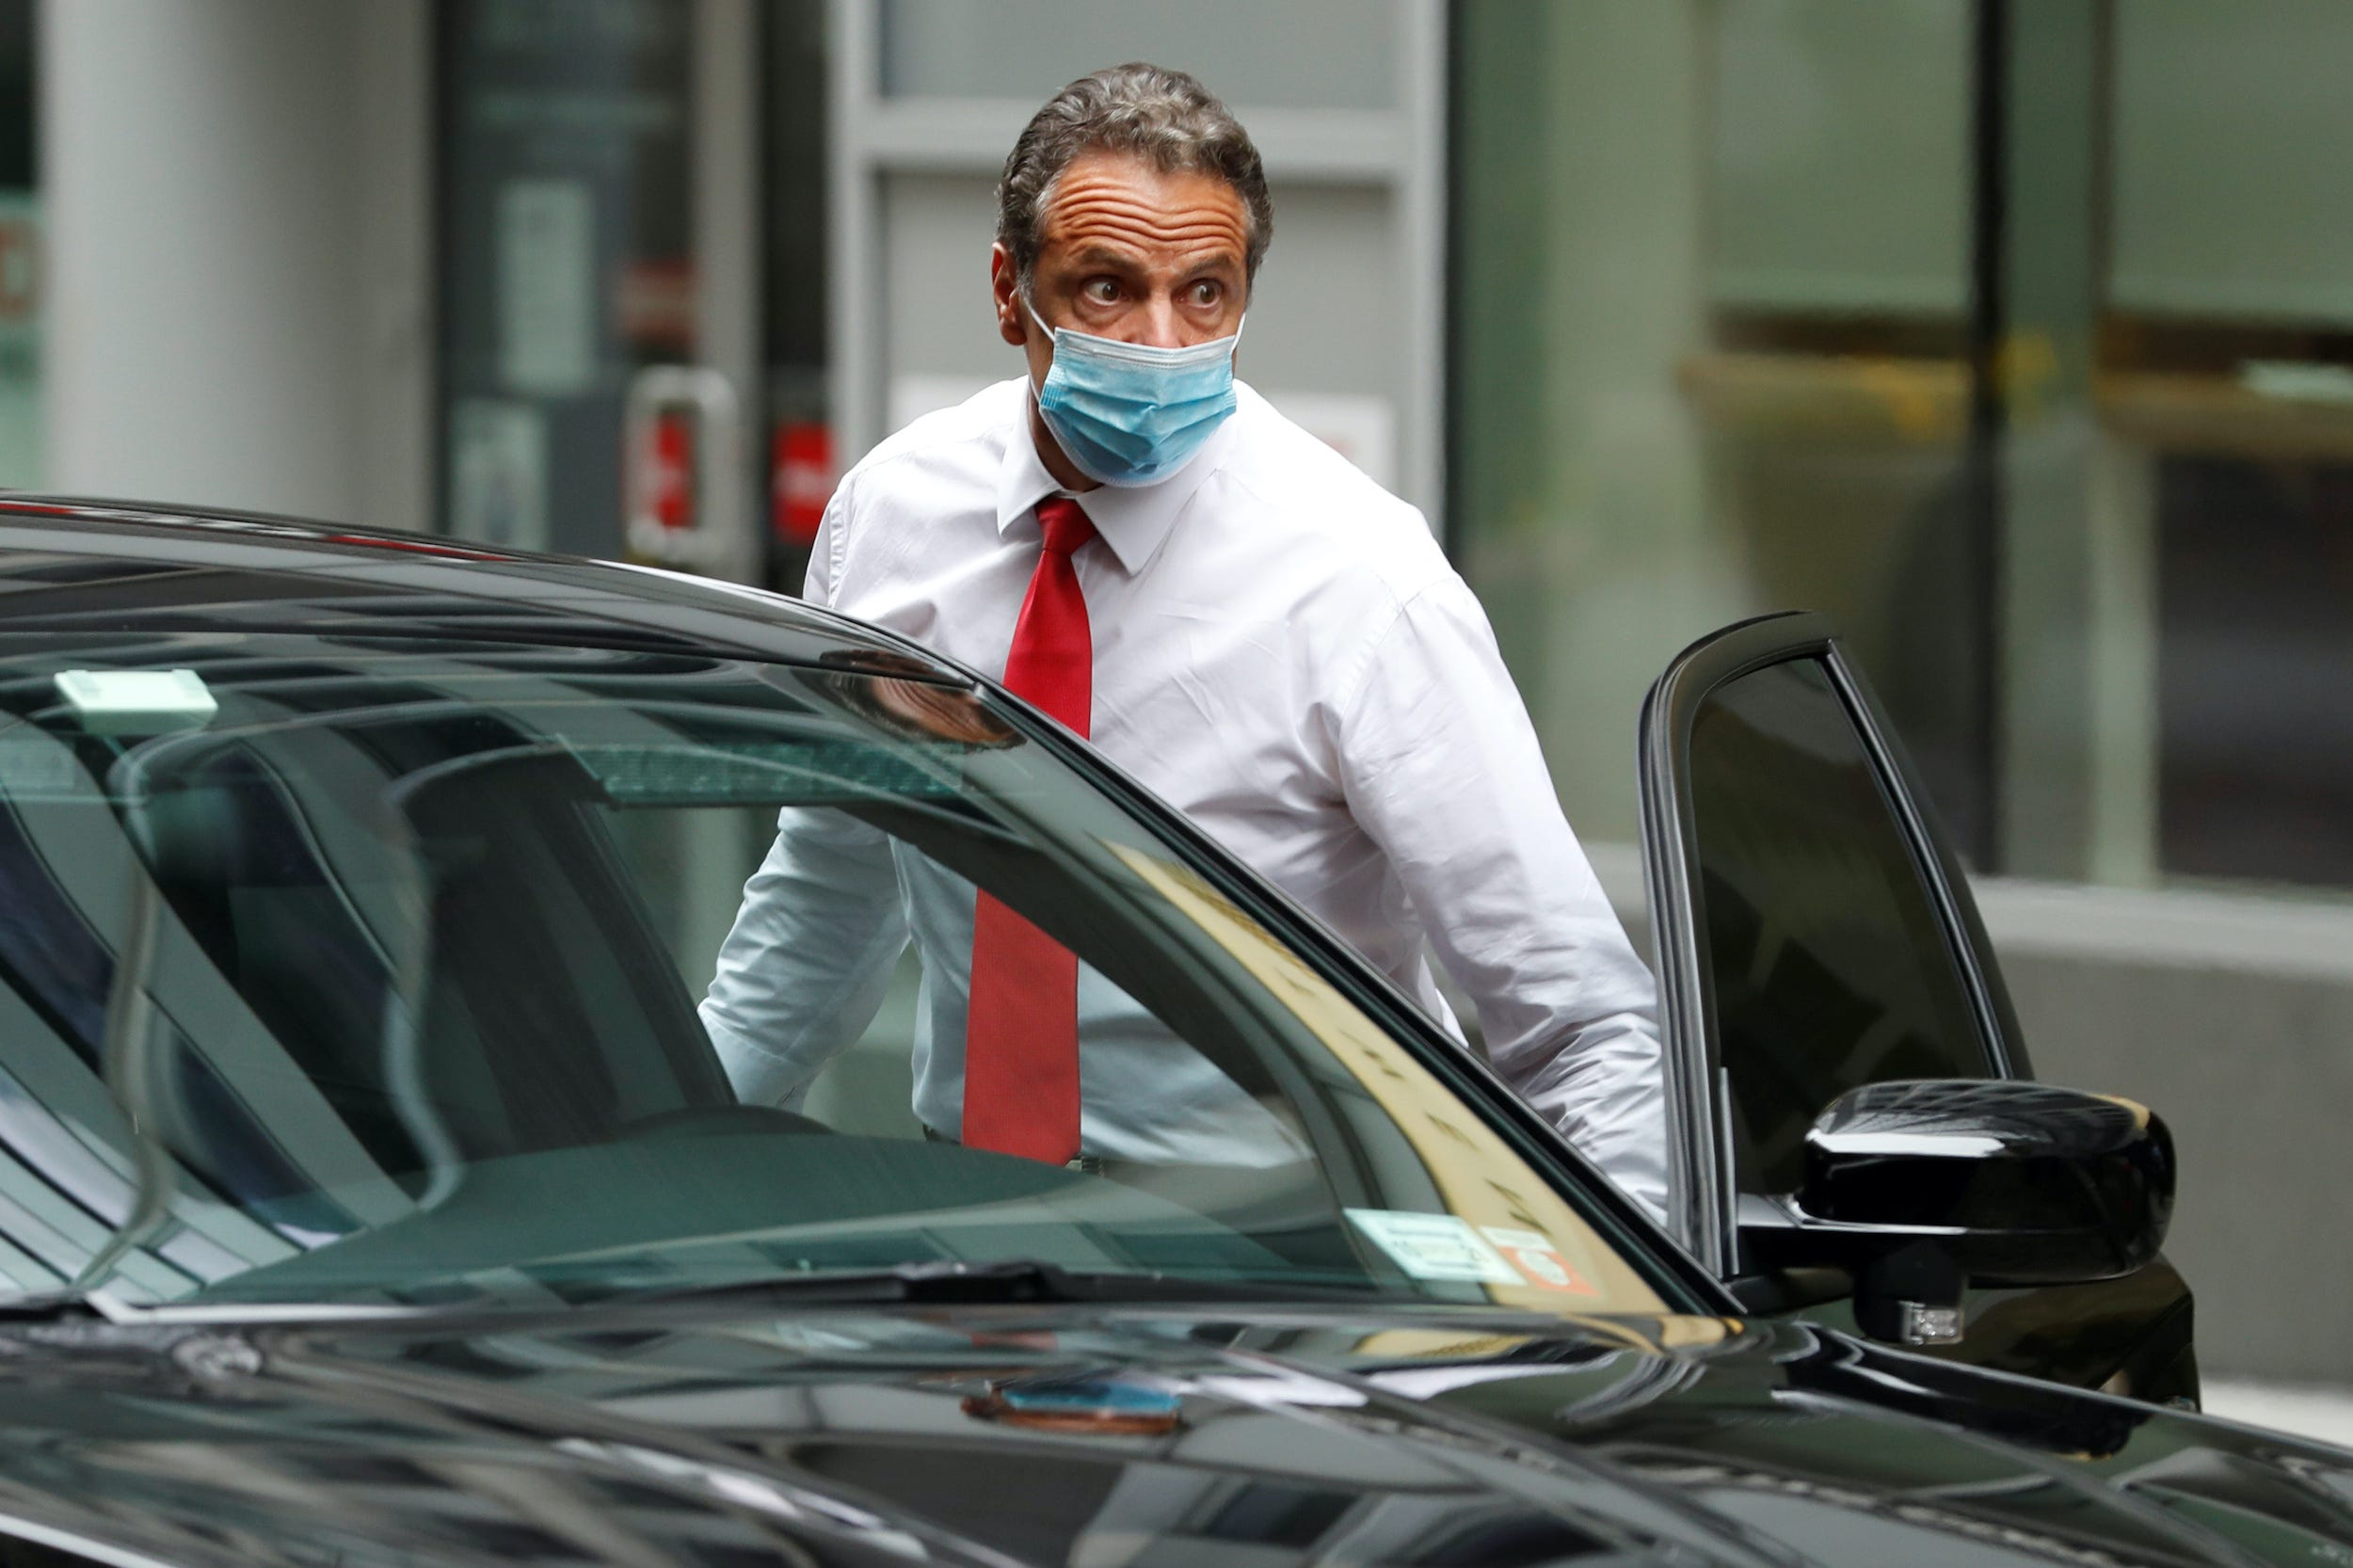mask: (964, 36, 1281, 511)
